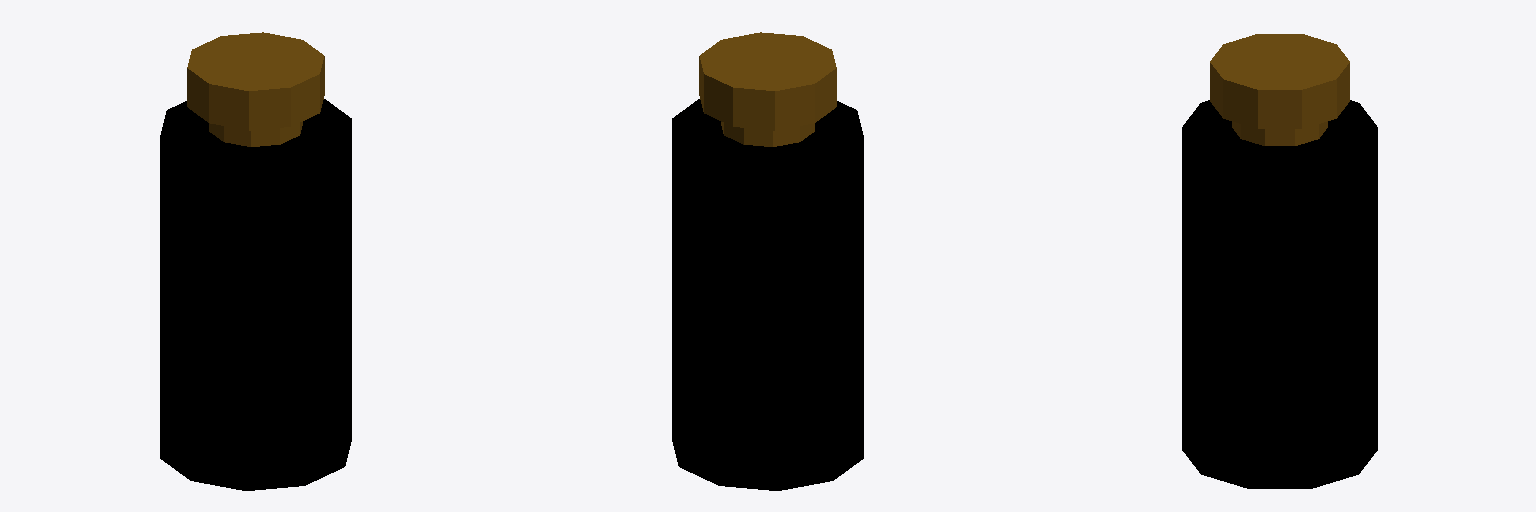
Rendered from Poison.obj.
3 views of the same model, side by side, from view 1: azimuth 30°, elevation 25°; view 2: azimuth 150°, elevation 25°; view 3: azimuth 270°, elevation 25° (orthographic).
Visible parts, largest first — view 1: Poison_Circle.008; view 2: Poison_Circle.008; view 3: Poison_Circle.008.
Boxes of the visible parts, <box> form: Poison_Circle.008: <box>160,32,351,490</box>; Poison_Circle.008: <box>672,32,863,490</box>; Poison_Circle.008: <box>1182,34,1377,488</box>.
Size of the model in its own units: 2.74 by 6.31 by 2.88.